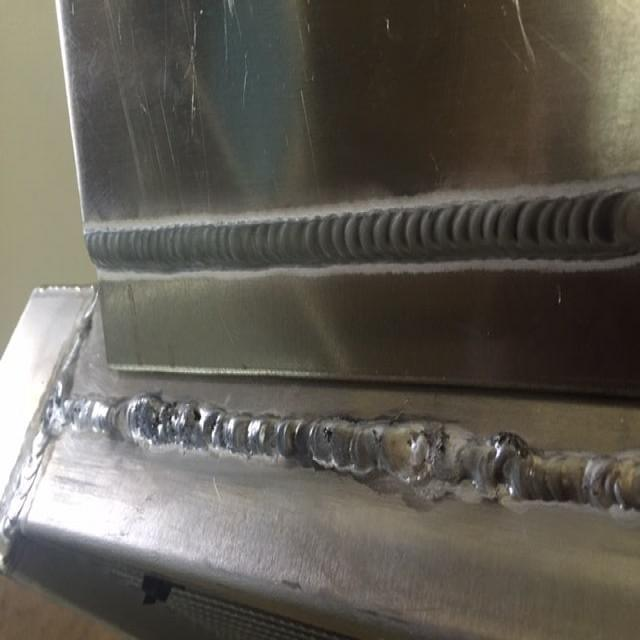Bad Weld: (56, 392, 635, 516)
Defect: (149, 404, 202, 432)
